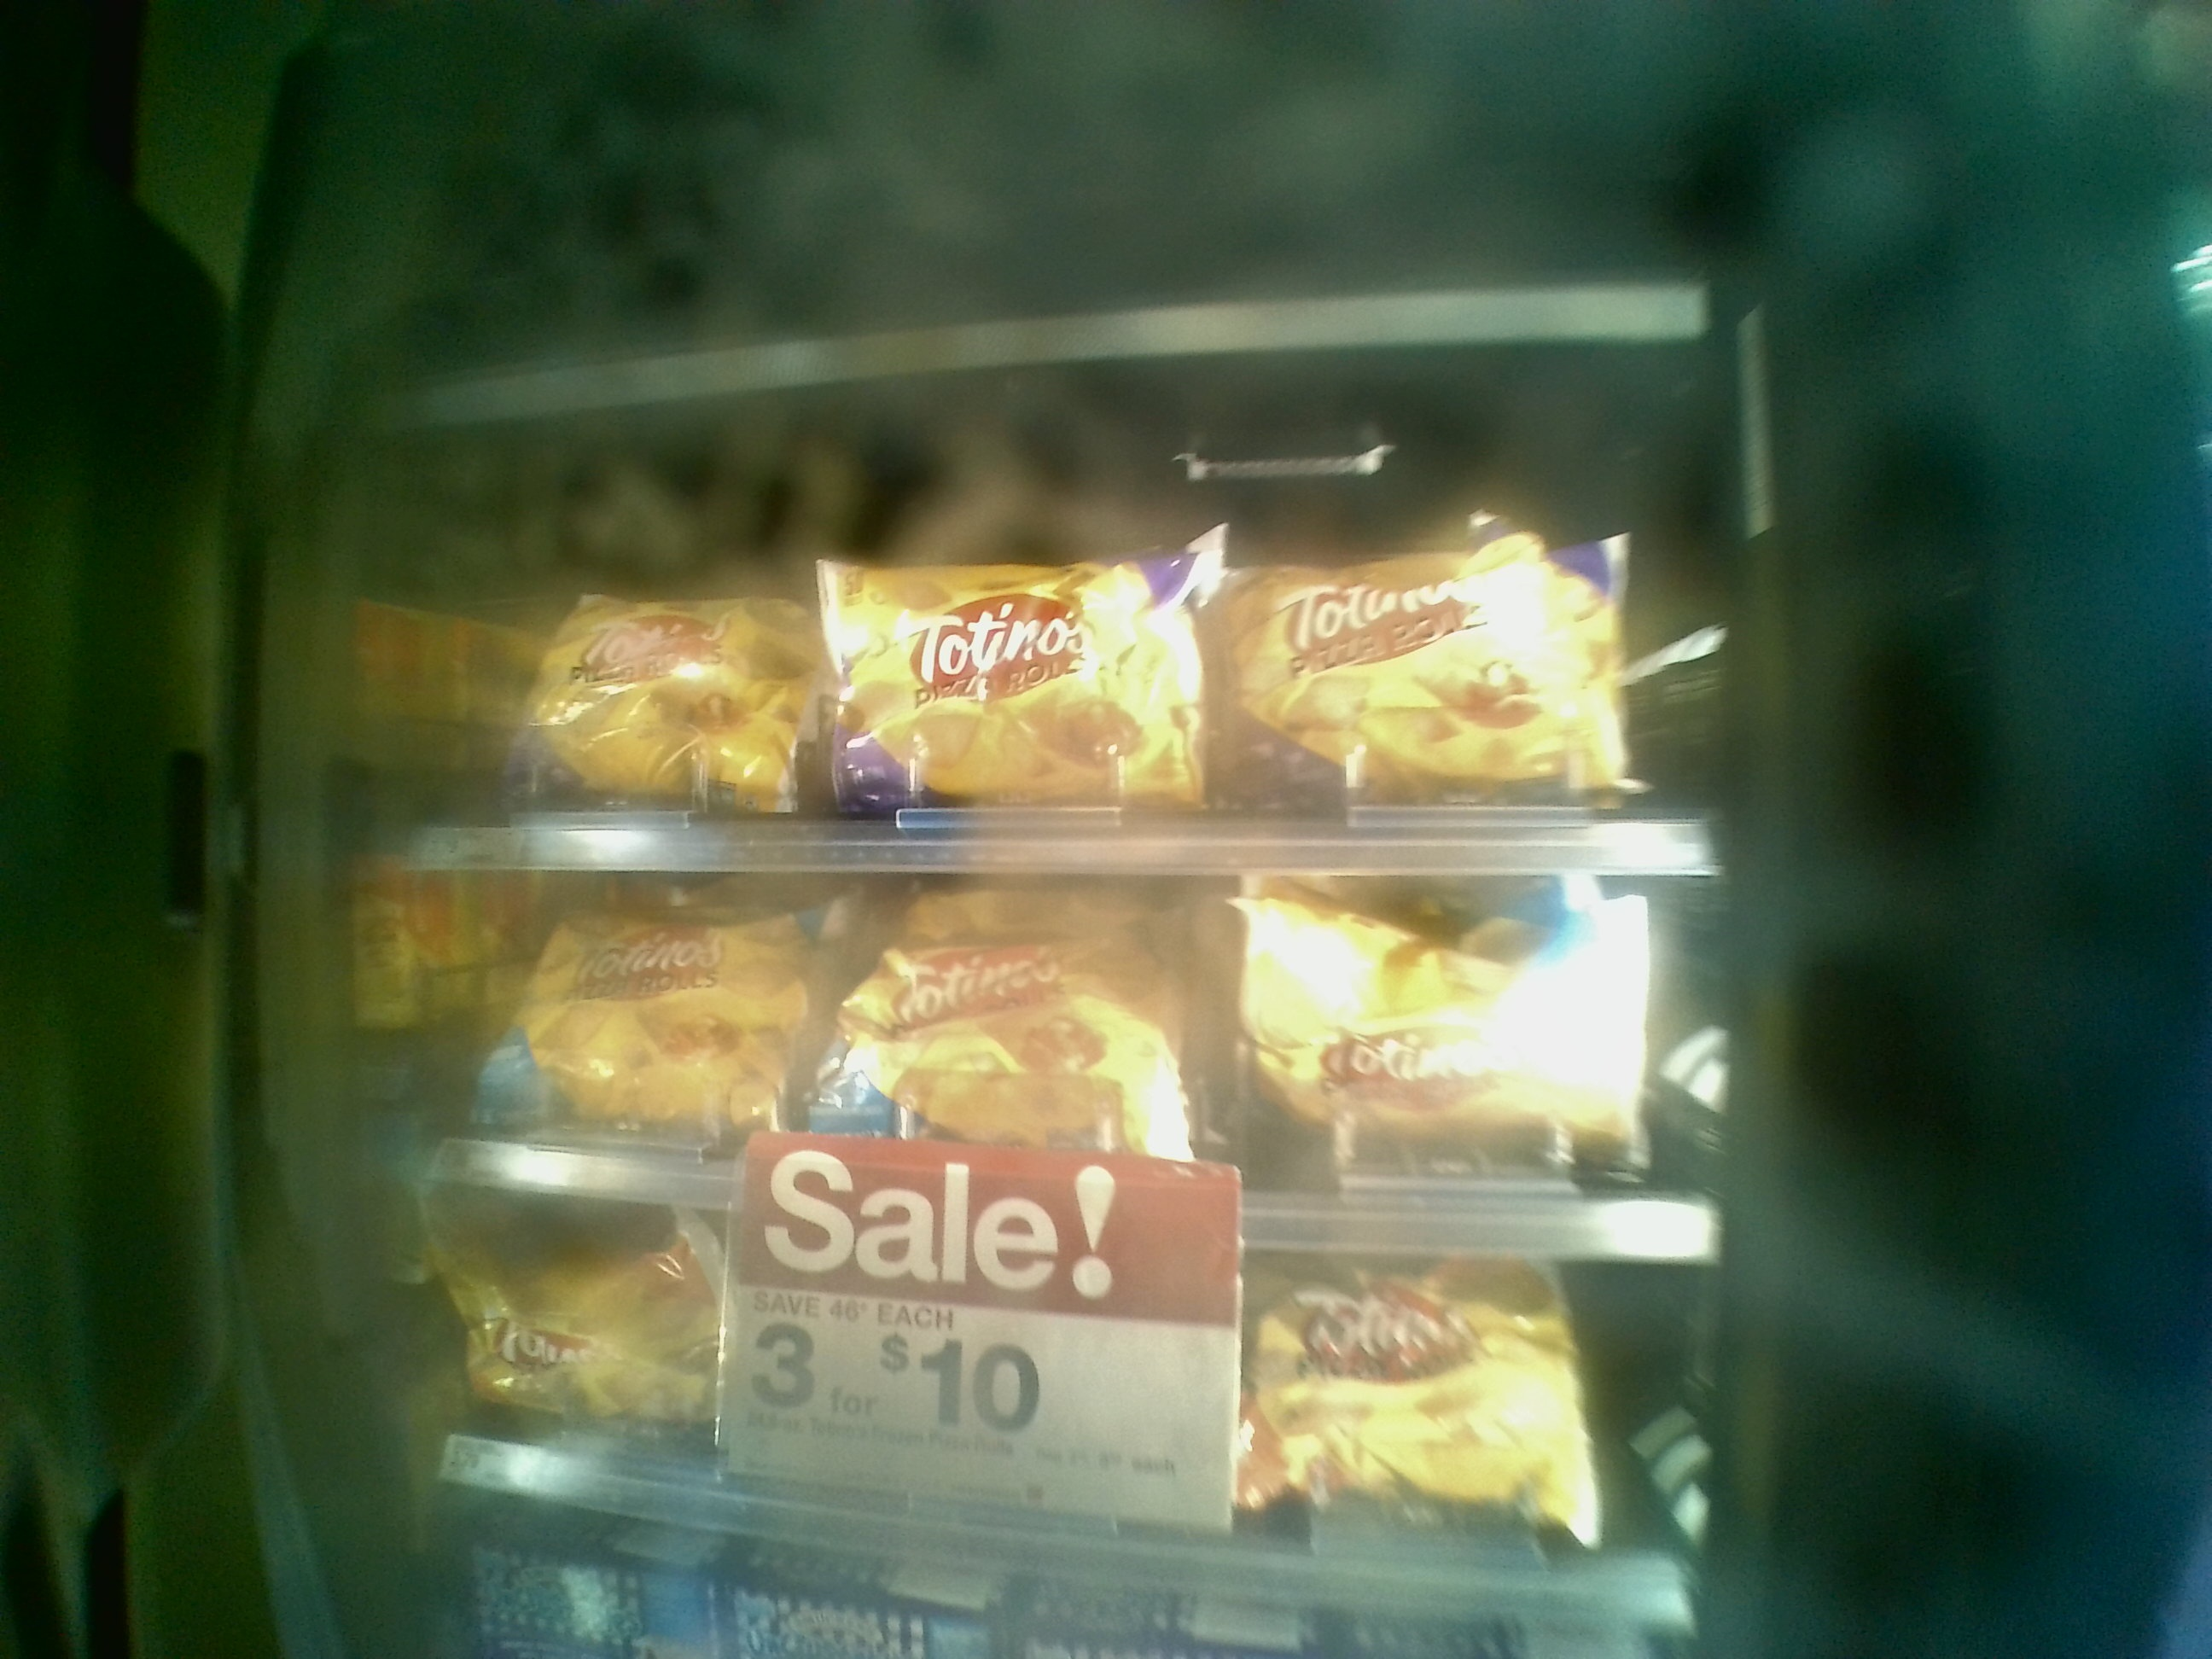shelf: (397, 1180, 1683, 1598), (371, 843, 1677, 1236), (366, 497, 1683, 843)
